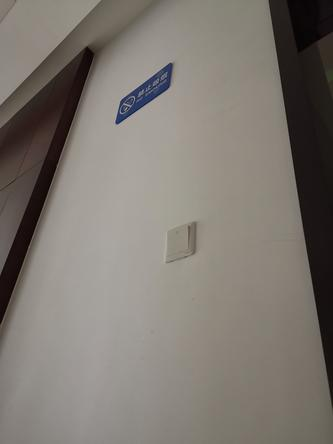switch: (161, 223, 194, 259)
